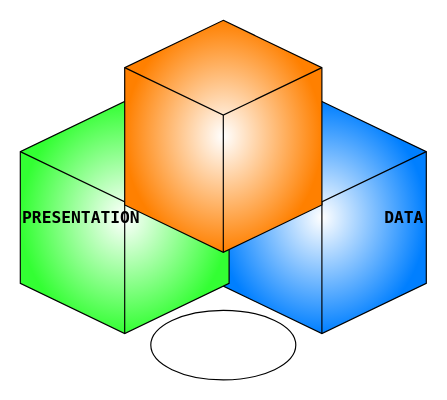
This 447x400 diagram has some shape labels left out. The box of each missing label's shape, as (x1, y1, x2, y2) in pixels:
CLEAN ARCHITECTURE: (150, 309, 296, 380)
DOMAIN: (124, 19, 322, 252)
